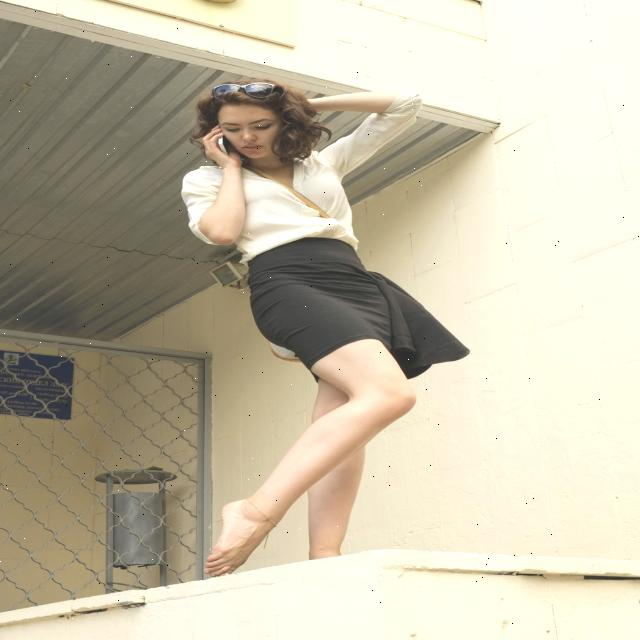No Safety Boots: (205, 499, 258, 578)
